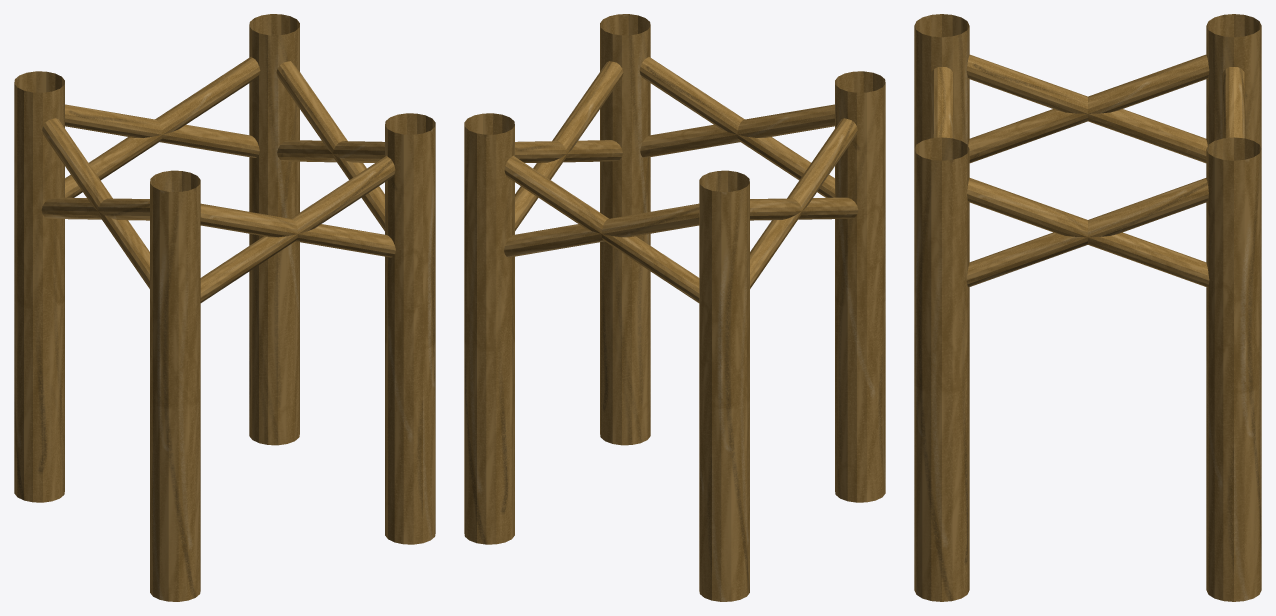
File: GroundPlatformExtensionOpened.fbx
3 renders of one model, left to right at view 1: azimuth 30°, elevation 25°; view 2: azimuth 150°, elevation 25°; view 3: azimuth 270°, elevation 25°, orthographic. The views are drawn at different scales.
Visible parts, largest first — view 1: GroundPlatformExtensionOpened; view 2: GroundPlatformExtensionOpened; view 3: GroundPlatformExtensionOpened.
Boxes of the visible parts, x1,y1,x2,y2 form: GroundPlatformExtensionOpened: [14, 14, 435, 601]; GroundPlatformExtensionOpened: [464, 14, 885, 601]; GroundPlatformExtensionOpened: [914, 14, 1261, 601].
Bounding box in the file's own units: 143 × 200 × 143.
